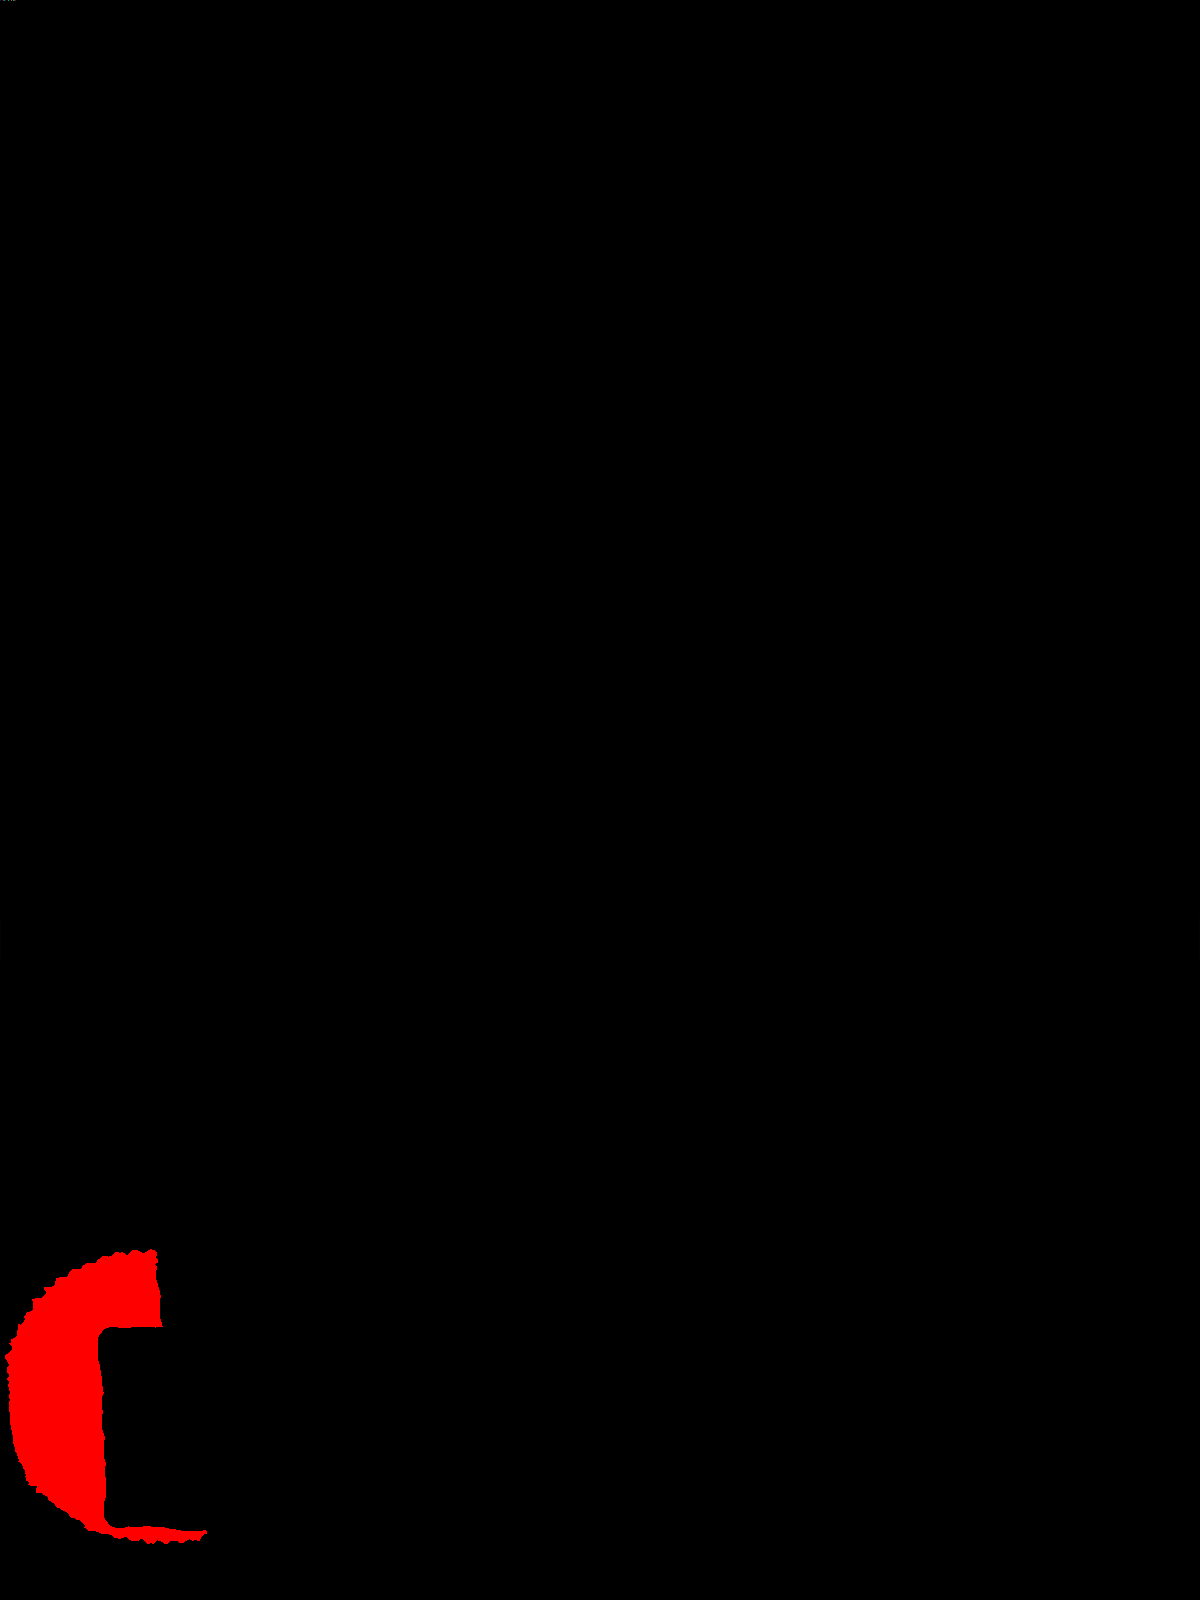stamp: (3, 1246, 189, 1541)
